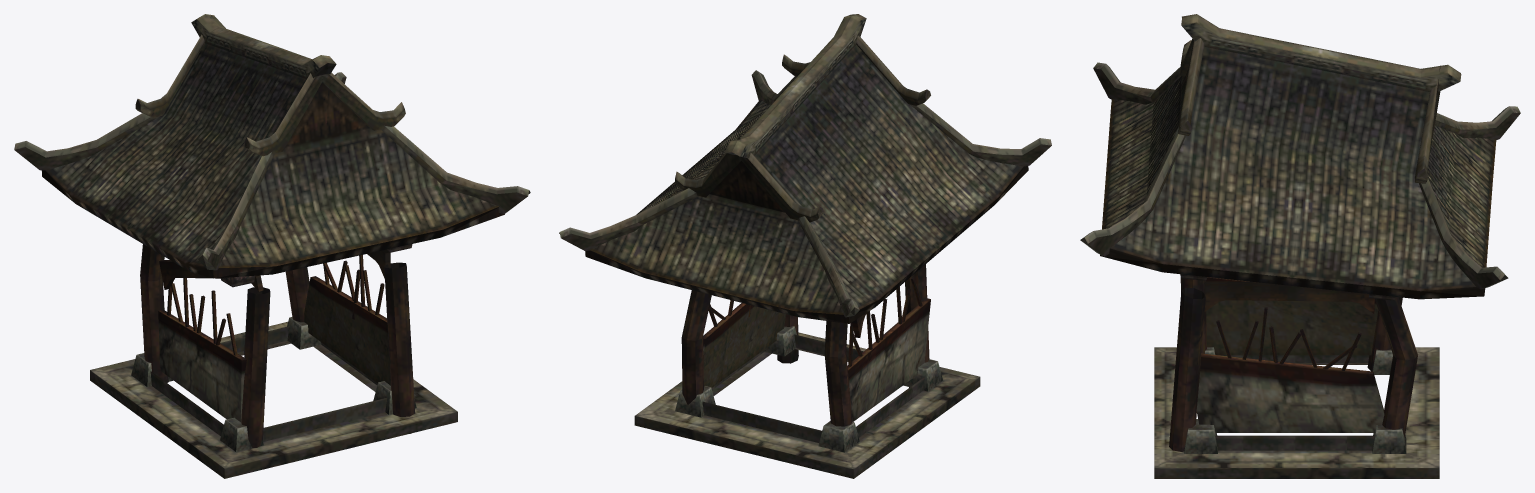
File: c1_0004_house2_03.fbx
The picture shows the model from 3 angles, left to right: view 1: azimuth 30°, elevation 25°; view 2: azimuth 150°, elevation 25°; view 3: azimuth 270°, elevation 25°; orthographic projection. The views are drawn at different scales.
Parts seen in each view (by area): view 1: a1-004-house2; view 2: a1-004-house2; view 3: a1-004-house2.
Part boxes in pixels (x1,y1,x2,y2): a1-004-house2: (14, 14, 530, 478); a1-004-house2: (559, 14, 1051, 478); a1-004-house2: (1080, 14, 1520, 478).
Bounding box in the file's own units: 5.4 × 5.97 × 5.77.
